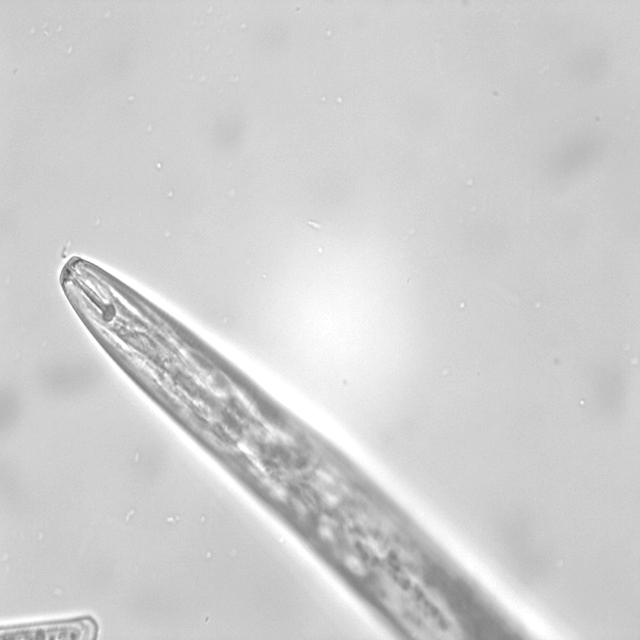Pratylenchus: (52, 243, 400, 571)
